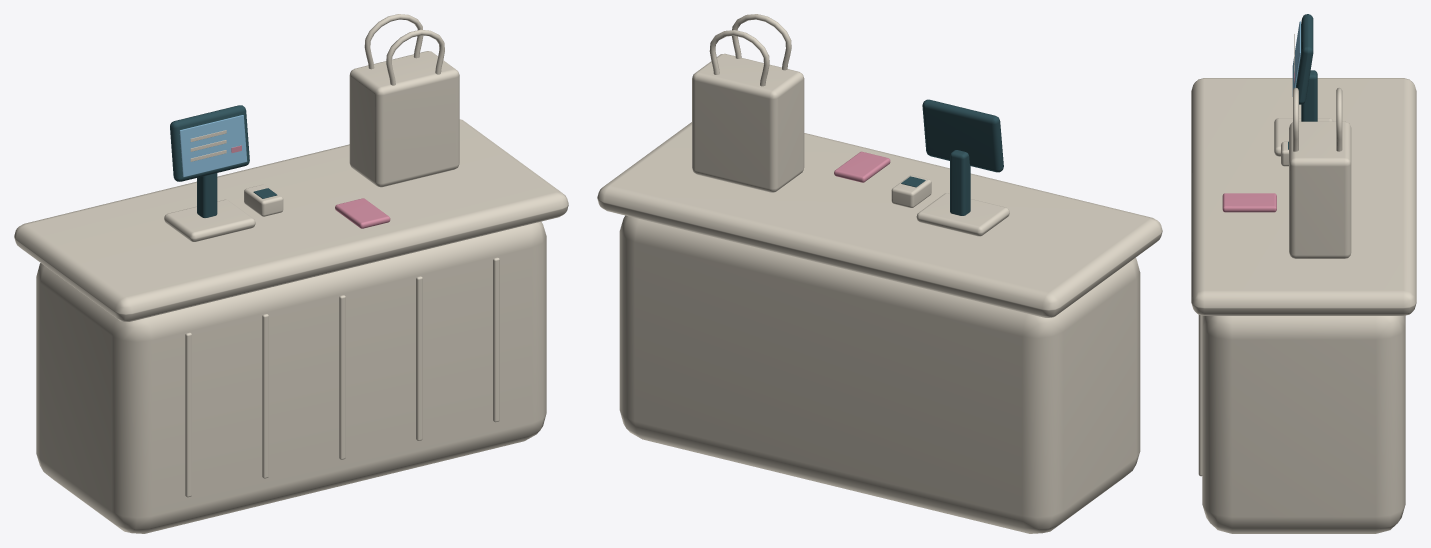
The model's file is cl_checkout.glb.
3 views of the same model, side by side, from view 1: azimuth 30°, elevation 25°; view 2: azimuth 150°, elevation 25°; view 3: azimuth 270°, elevation 25° (orthographic).
Parts seen in each view (by area): view 1: prop; view 2: prop; view 3: prop.
Part boxes in pixels (x1=…): prop: x1=14, y1=14, x2=568, y2=533; prop: x1=597, y1=14, x2=1162, y2=533; prop: x1=1191, y1=14, x2=1416, y2=533.
Bounding box in the file's own units: 1.94 × 1.65 × 0.8299.
